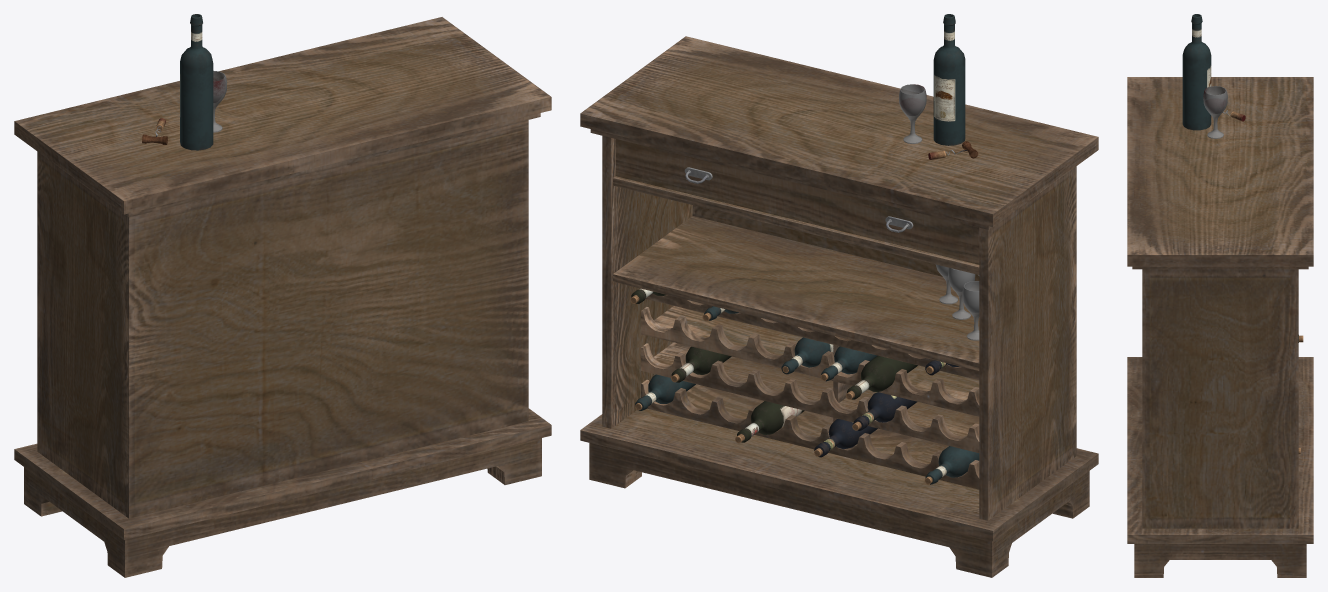
File: wine_cabinet.glb
3 views of the same model, side by side, from view 1: azimuth 30°, elevation 25°; view 2: azimuth 150°, elevation 25°; view 3: azimuth 270°, elevation 25° (orthographic). The views are drawn at different scales.
Visible parts, largest first — view 1: WineCabinetMerge; view 2: WineCabinetMerge; view 3: WineCabinetMerge.
Boxes of the visible parts, box(x1,y1,x2,y2) form: WineCabinetMerge: box(14, 14, 551, 577); WineCabinetMerge: box(580, 14, 1098, 577); WineCabinetMerge: box(1127, 14, 1313, 577).
Bounding box in the file's own units: 1.47 × 1.67 × 0.6507.
3 materials, 3 textured.
